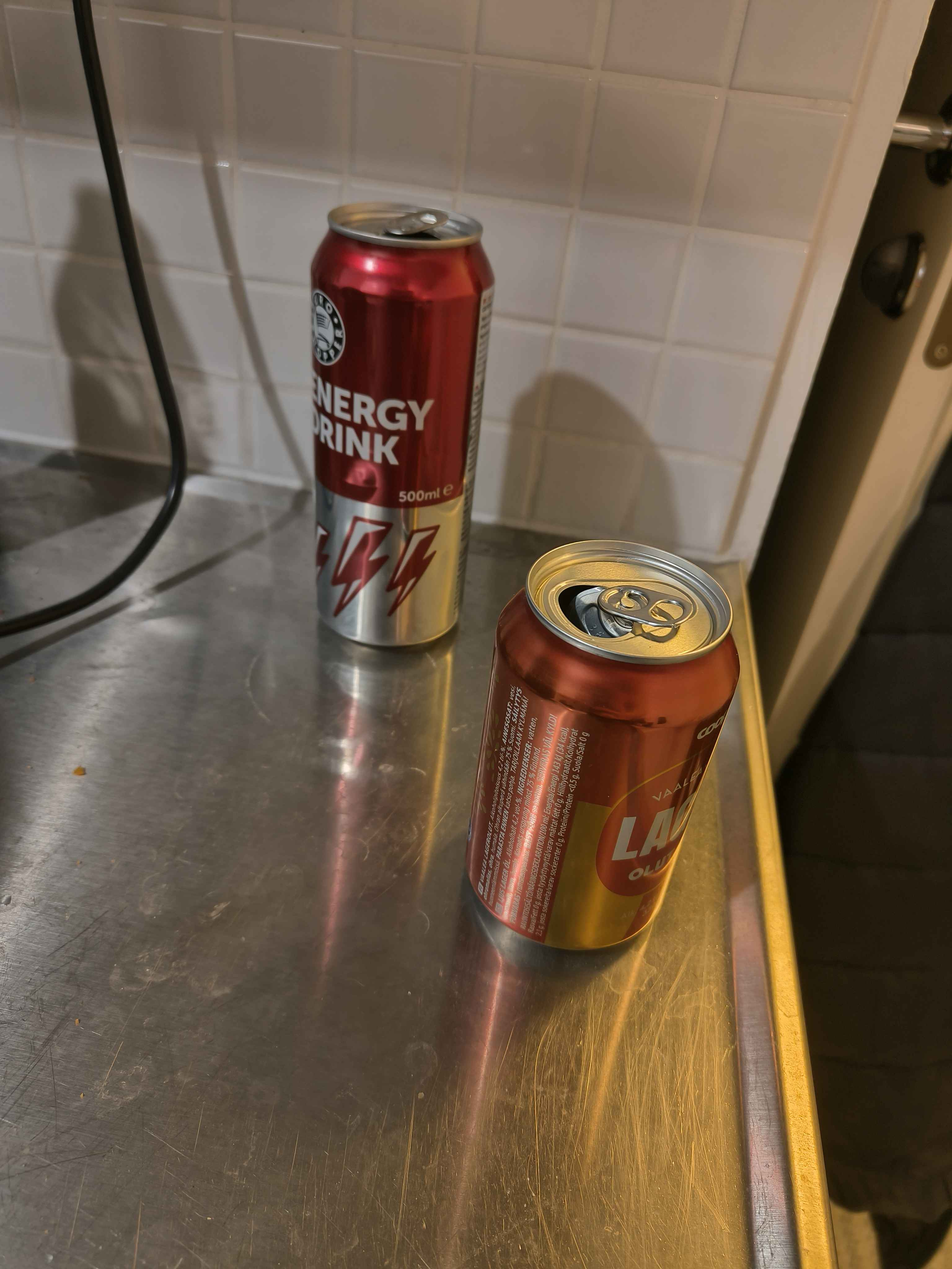Pantburk: (463, 539, 740, 951), (309, 200, 497, 650)
